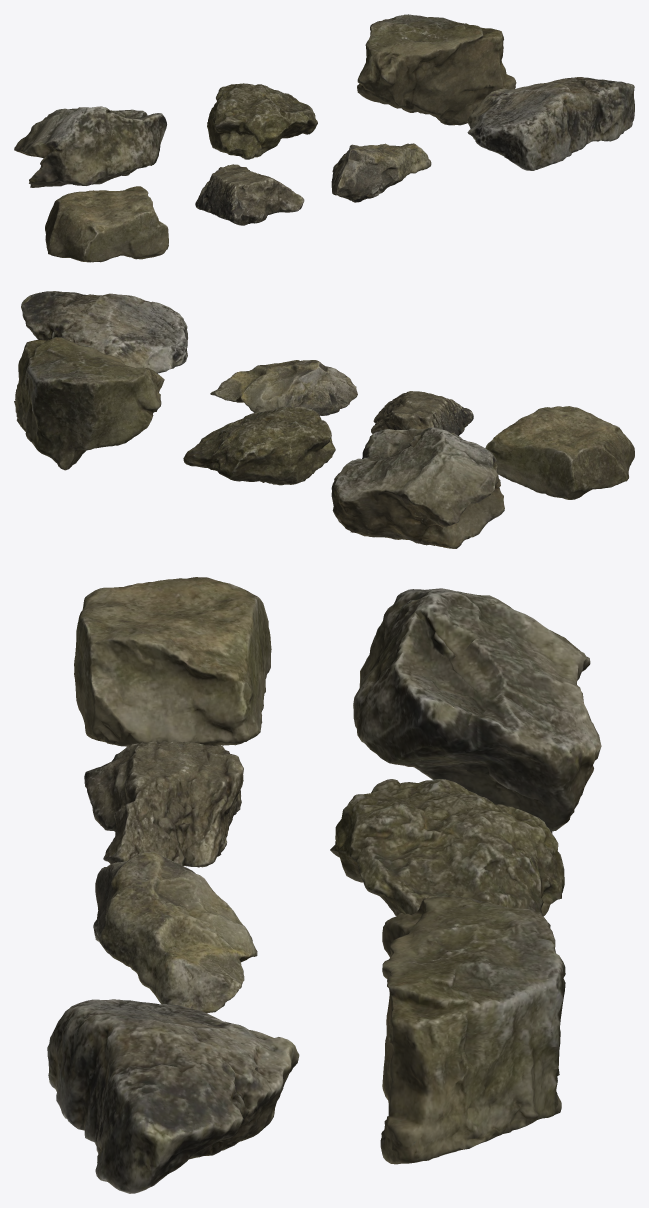
The model's file is rock_moss_set_02.glb.
The picture shows the model from 3 angles, top to bottom: view 1: azimuth 30°, elevation 25°; view 2: azimuth 150°, elevation 25°; view 3: azimuth 270°, elevation 25°; orthographic projection. The views are drawn at different scales.
Visible parts, largest first — view 1: rock_moss_set_02_rock13, rock_moss_set_02_rock10, rock_moss_set_02_rock11, rock_moss_set_02_rock07, rock_moss_set_02_rock12, rock_moss_set_02_rock08, rock_moss_set_02_rock09; view 2: rock_moss_set_02_rock11, rock_moss_set_02_rock13, rock_moss_set_02_rock07, rock_moss_set_02_rock10, rock_moss_set_02_rock12, rock_moss_set_02_rock09, rock_moss_set_02_rock08; view 3: rock_moss_set_02_rock13, rock_moss_set_02_rock11, rock_moss_set_02_rock10, rock_moss_set_02_rock07, rock_moss_set_02_rock12, rock_moss_set_02_rock09, rock_moss_set_02_rock08.
Boxes of the visible parts, <box> form: rock_moss_set_02_rock13: <box>357,14,516,125</box>; rock_moss_set_02_rock10: <box>467,77,634,170</box>; rock_moss_set_02_rock11: <box>14,106,166,187</box>; rock_moss_set_02_rock07: <box>45,186,168,262</box>; rock_moss_set_02_rock12: <box>207,83,317,159</box>; rock_moss_set_02_rock08: <box>195,164,304,225</box>; rock_moss_set_02_rock09: <box>331,143,431,202</box>; rock_moss_set_02_rock11: <box>331,427,504,548</box>; rock_moss_set_02_rock13: <box>14,337,164,470</box>; rock_moss_set_02_rock07: <box>485,406,634,499</box>; rock_moss_set_02_rock10: <box>21,291,187,373</box>; rock_moss_set_02_rock12: <box>183,406,335,485</box>; rock_moss_set_02_rock09: <box>210,360,357,415</box>; rock_moss_set_02_rock08: <box>371,391,473,435</box>; rock_moss_set_02_rock13: <box>380,895,565,1164</box>; rock_moss_set_02_rock11: <box>353,588,601,833</box>; rock_moss_set_02_rock10: <box>47,999,299,1193</box>; rock_moss_set_02_rock07: <box>74,577,271,746</box>; rock_moss_set_02_rock12: <box>330,779,564,927</box>; rock_moss_set_02_rock09: <box>93,851,257,1013</box>; rock_moss_set_02_rock08: <box>84,741,243,867</box>.
Bounding box in the file's own units: 8.28 × 1.37 × 3.41.
Materials: 1 (1 with a texture image).
